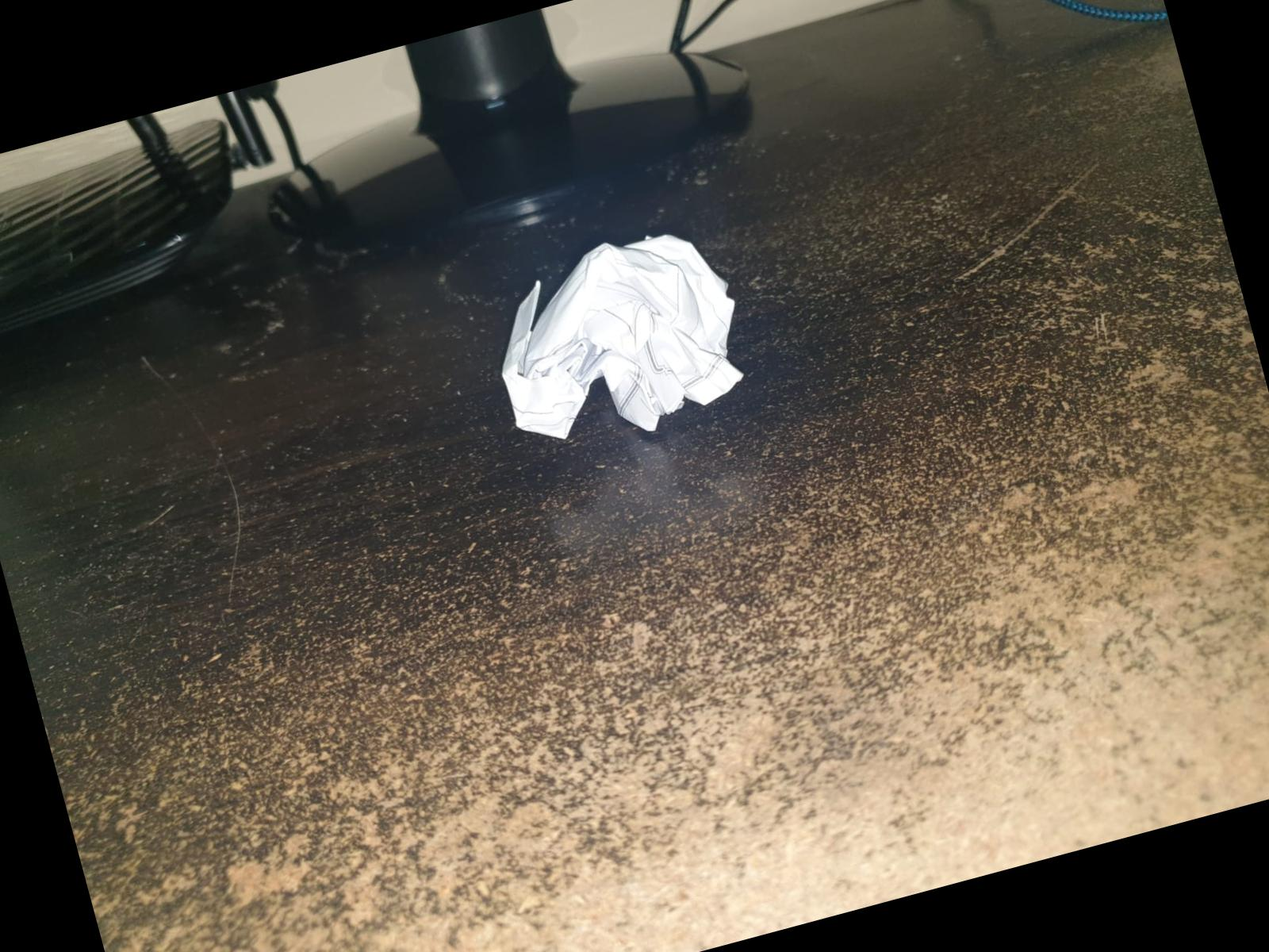Kertas: (500, 230, 742, 437)
